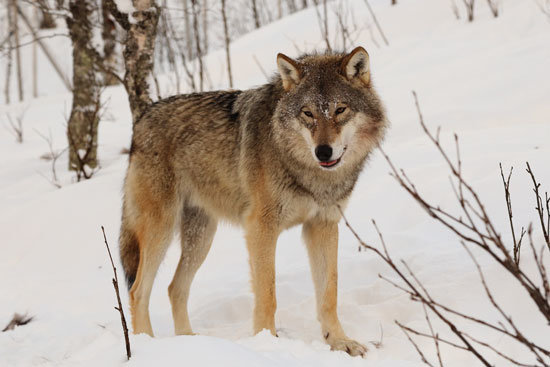Lobo: (104, 36, 383, 350)
